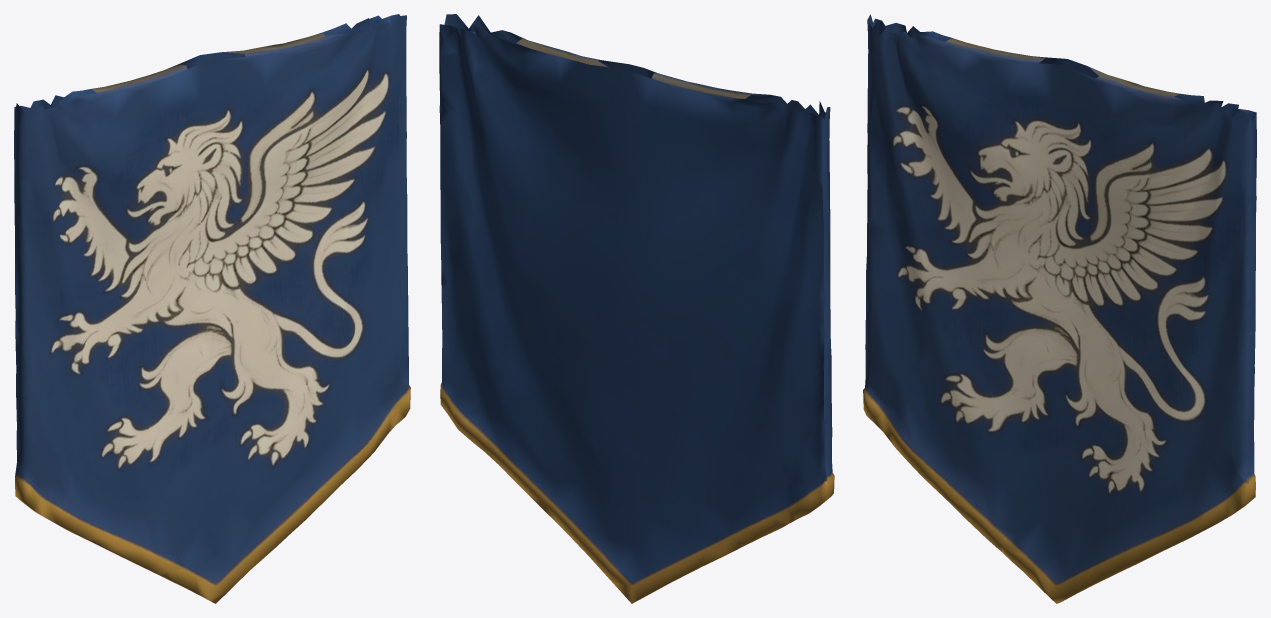
Rendered from BannerGriffin.glb.
3 renders of one model, left to right at view 1: azimuth 30°, elevation 25°; view 2: azimuth 150°, elevation 25°; view 3: azimuth 330°, elevation 25°, orthographic.
Parts seen in each view (by area): view 1: BannerGriffin; view 2: BannerGriffin; view 3: BannerGriffin.
Part boxes in pixels (x1,y1,x2,y2): BannerGriffin: (14, 14, 410, 603); BannerGriffin: (439, 14, 834, 603); BannerGriffin: (863, 14, 1256, 603).
Size of the model in its own units: 1.34 by 1.8 by 0.1051.
1 material, 1 textured.
